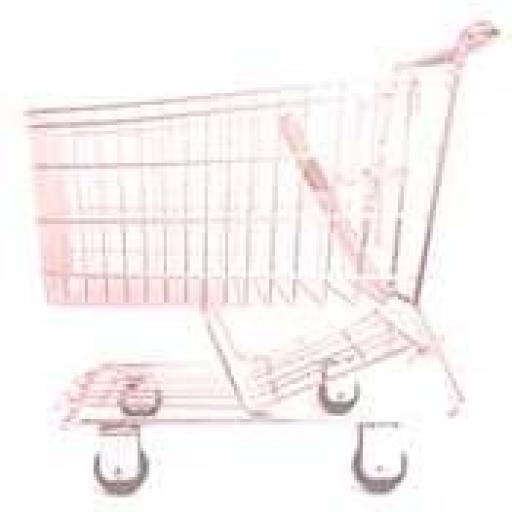shopping_cart: (24, 18, 503, 498)
